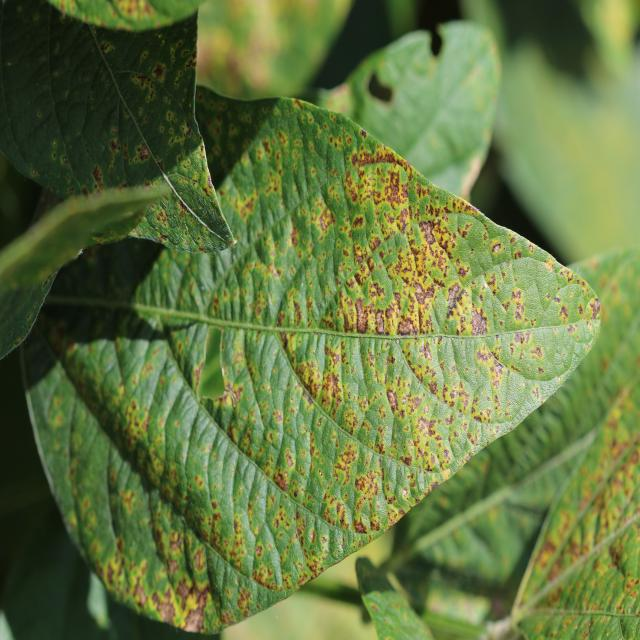Bacterial_Blight: (208, 2, 314, 96), (120, 392, 152, 450), (294, 357, 330, 399), (376, 167, 405, 204), (533, 536, 559, 572), (112, 0, 153, 22), (356, 149, 395, 170), (255, 233, 277, 265), (236, 190, 257, 222), (442, 382, 465, 410), (261, 166, 281, 197), (621, 571, 640, 601), (175, 577, 193, 608), (412, 280, 433, 306), (223, 383, 244, 409), (469, 308, 488, 336), (354, 298, 368, 334), (415, 415, 435, 440), (609, 538, 625, 569), (420, 220, 438, 247), (397, 316, 416, 336), (120, 488, 136, 511), (168, 530, 183, 554), (476, 344, 493, 364), (274, 471, 289, 492), (319, 209, 332, 232), (92, 164, 104, 188), (386, 389, 399, 411), (355, 474, 370, 493), (184, 49, 197, 70), (589, 298, 601, 320), (99, 40, 115, 56), (375, 312, 386, 335), (152, 62, 166, 80), (178, 198, 192, 215), (353, 518, 367, 534), (199, 172, 211, 190), (137, 145, 150, 161), (530, 344, 543, 360), (544, 256, 556, 272), (558, 305, 569, 322), (284, 451, 295, 468), (109, 139, 119, 153), (424, 464, 435, 475), (491, 242, 501, 254), (166, 110, 174, 121), (275, 317, 280, 327), (36, 110, 42, 118), (357, 354, 360, 360)
Soybean: (21, 88, 601, 632)
